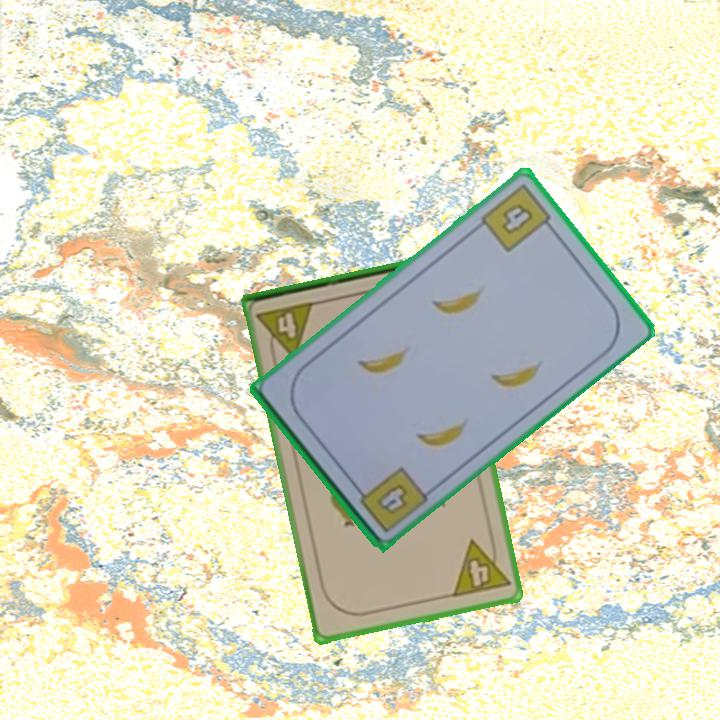4b: (477, 180, 558, 255), (350, 462, 431, 536)
4p: (448, 532, 513, 600), (253, 298, 318, 364)
